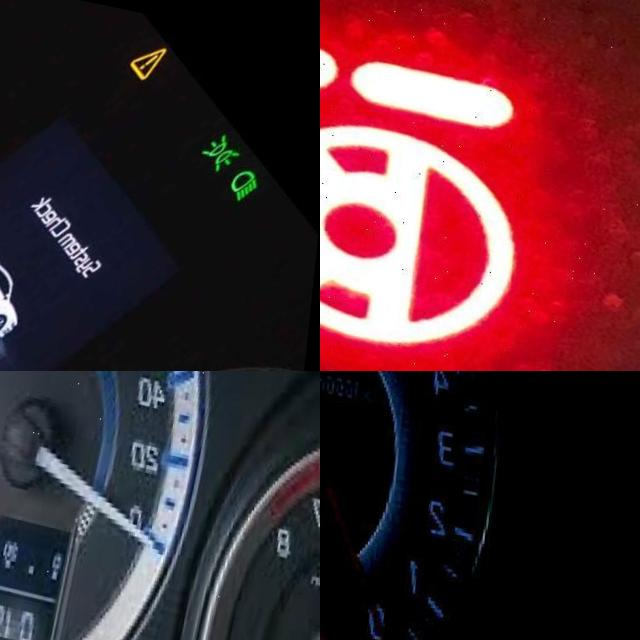Electronic Power Steering Warning: (320, 31, 523, 351)
